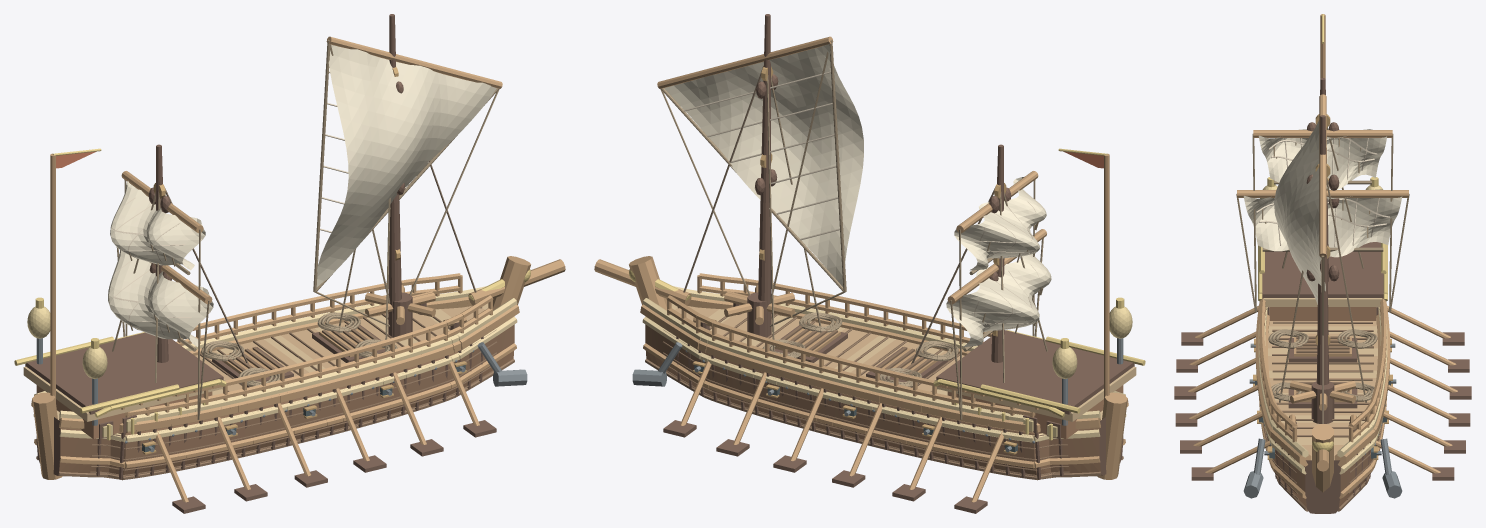
File: chola_warship-v5.glb
3 views of the same model, side by side, from view 1: azimuth 30°, elevation 25°; view 2: azimuth 150°, elevation 25°; view 3: azimuth 270°, elevation 25° (orthographic). The views are drawn at different scales.
Parts seen in each view (by area): view 1: chola_warship_sails_sail, chola_warship_hull_wood, chola_warship_railings_wood, chola_warship_hull_pale, chola_warship_deck_darkwood, chola_warship_hull_hull, chola_warship_hull_seam, chola_warship_rigging_rope, chola_warship_hull_hull2, chola_warship_masts_darkwood, chola_warship_oars_wood, chola_warship_hull_deck (+17 smaller); view 2: chola_warship_sails_sail, chola_warship_hull_wood, chola_warship_railings_wood, chola_warship_hull_pale, chola_warship_deck_darkwood, chola_warship_hull_hull, chola_warship_hull_seam, chola_warship_rigging_rope, chola_warship_masts_darkwood, chola_warship_hull_hull2, chola_warship_rigging_wood, chola_warship_oars_wood (+17 smaller); view 3: chola_warship_sails_sail, chola_warship_oars_wood, chola_warship_hull_wood, chola_warship_deck_darkwood, chola_warship_oars_darkwood, chola_warship_hull_deck, chola_warship_rigging_wood, chola_warship_railings_wood, chola_warship_hull_seam, chola_warship_masts_darkwood, chola_warship_rigging_rope, chola_warship_hull_pale (+13 smaller).
Boxes of the visible parts, left/top/right/bottom form: chola_warship_sails_sail: left=108, top=44, right=496, bottom=346; chola_warship_hull_wood: left=31, top=256, right=565, bottom=479; chola_warship_railings_wood: left=124, top=273, right=492, bottom=417; chola_warship_hull_pale: left=33, top=286, right=517, bottom=442; chola_warship_deck_darkwood: left=25, top=332, right=223, bottom=438; chola_warship_hull_hull: left=57, top=324, right=514, bottom=476; chola_warship_hull_seam: left=36, top=313, right=514, bottom=480; chola_warship_rigging_rope: left=116, top=39, right=499, bottom=419; chola_warship_hull_hull2: left=59, top=327, right=514, bottom=476; chola_warship_masts_darkwood: left=148, top=14, right=404, bottom=362; chola_warship_oars_wood: left=156, top=361, right=479, bottom=502; chola_warship_hull_deck: left=57, top=306, right=484, bottom=411; chola_warship_sails_sail: left=664, top=43, right=1051, bottom=347; chola_warship_hull_wood: left=594, top=256, right=1128, bottom=479; chola_warship_railings_wood: left=667, top=273, right=1035, bottom=417; chola_warship_hull_pale: left=642, top=286, right=1126, bottom=442; chola_warship_deck_darkwood: left=936, top=330, right=1134, bottom=438; chola_warship_hull_hull: left=645, top=324, right=1102, bottom=476; chola_warship_hull_seam: left=645, top=313, right=1123, bottom=480; chola_warship_rigging_rope: left=660, top=39, right=1043, bottom=419; chola_warship_masts_darkwood: left=755, top=14, right=1011, bottom=362; chola_warship_hull_hull2: left=645, top=327, right=1100, bottom=476; chola_warship_rigging_wood: left=657, top=36, right=1046, bottom=304; chola_warship_oars_wood: left=680, top=361, right=1003, bottom=502; chola_warship_sails_sail: left=1243, top=120, right=1402, bottom=304; chola_warship_oars_wood: left=1188, top=305, right=1457, bottom=473; chola_warship_hull_wood: left=1255, top=301, right=1390, bottom=498; chola_warship_deck_darkwood: left=1262, top=242, right=1383, bottom=315; chola_warship_oars_darkwood: left=1174, top=332, right=1471, bottom=480; chola_warship_hull_deck: left=1268, top=318, right=1377, bottom=459; chola_warship_rigging_wood: left=1237, top=94, right=1408, bottom=257; chola_warship_railings_wood: left=1259, top=298, right=1386, bottom=442; chola_warship_hull_seam: left=1263, top=321, right=1382, bottom=511; chola_warship_masts_darkwood: left=1306, top=78, right=1339, bottom=385; chola_warship_rigging_rope: left=1236, top=134, right=1409, bottom=335; chola_warship_hull_pale: left=1258, top=307, right=1387, bottom=474.
Size of the model in its own units: 51.18 by 35.08 by 26.68.
